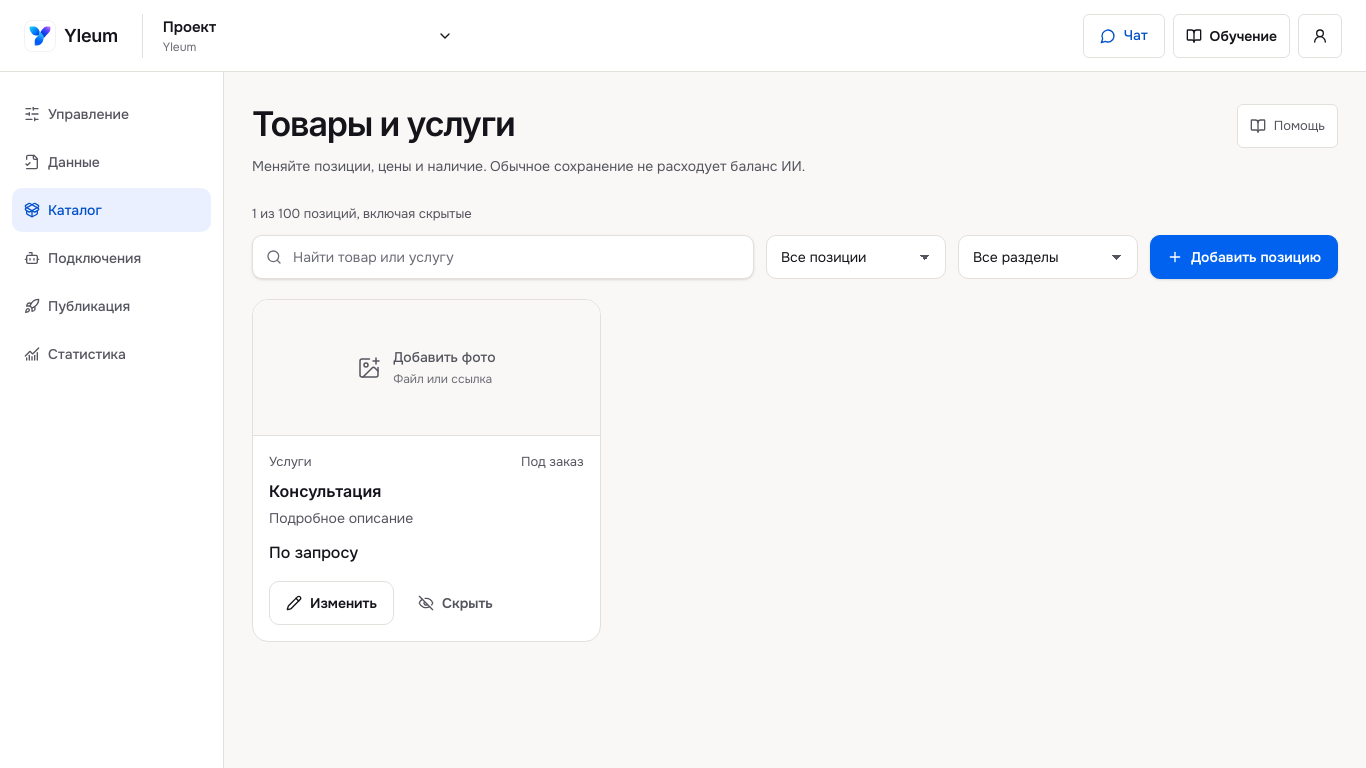
saves a source catalog through the versioned config PUT without replacing the rest of the config
Click the button "Скрыть". click: x=455, y=603
box: [402,581,509,625]
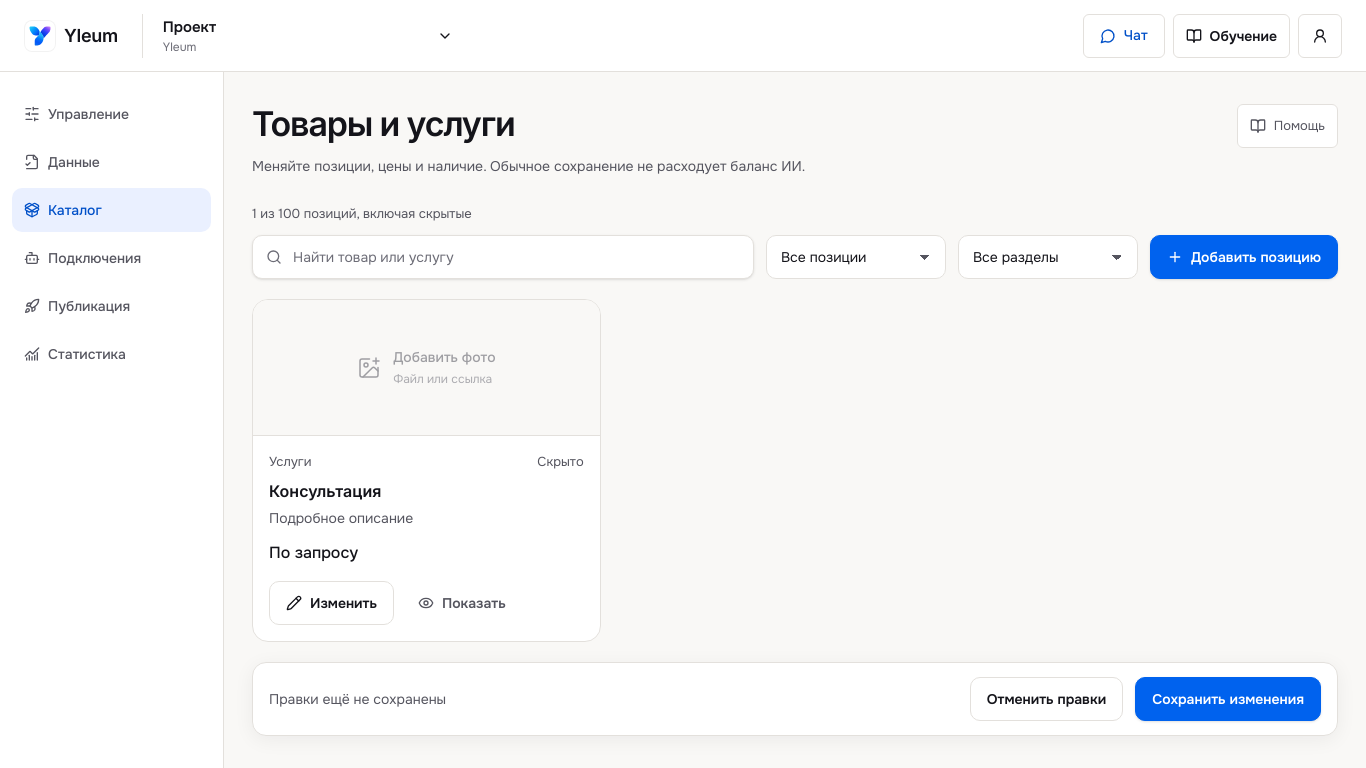
Click the button "Сохранить изменения". click: x=1228, y=699
box: [1135,677,1321,721]
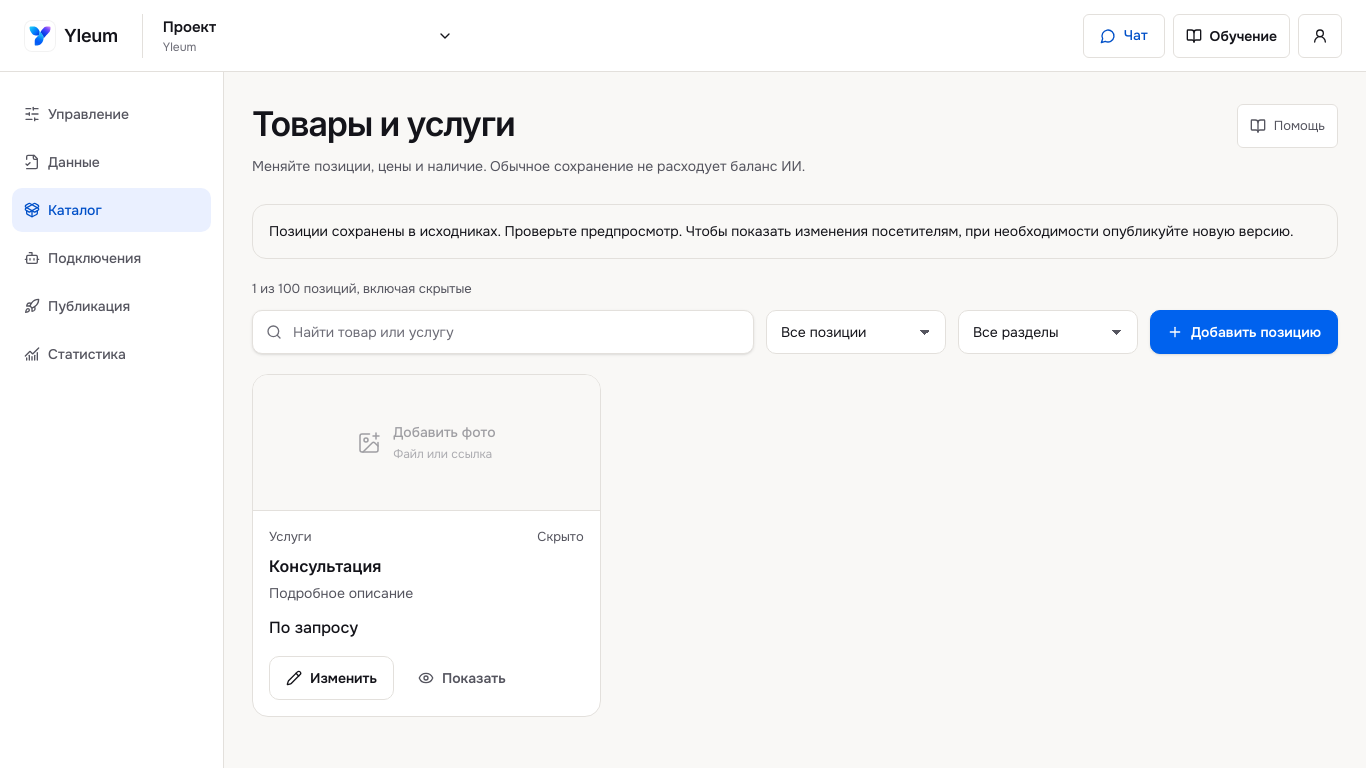
Result: the text "Позиции сохранены в исходниках" is shown at [269,222,1294,240]
Result: the text "Правки ещё не сохранены" is gone
